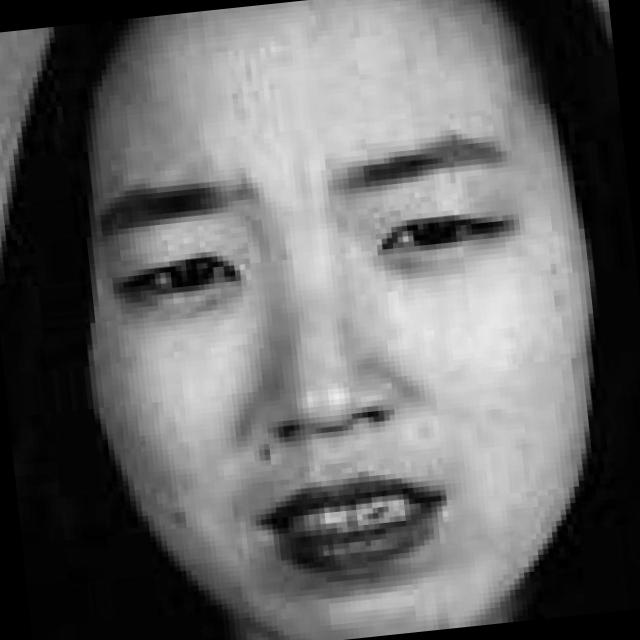disgust: (31, 13, 565, 640)
